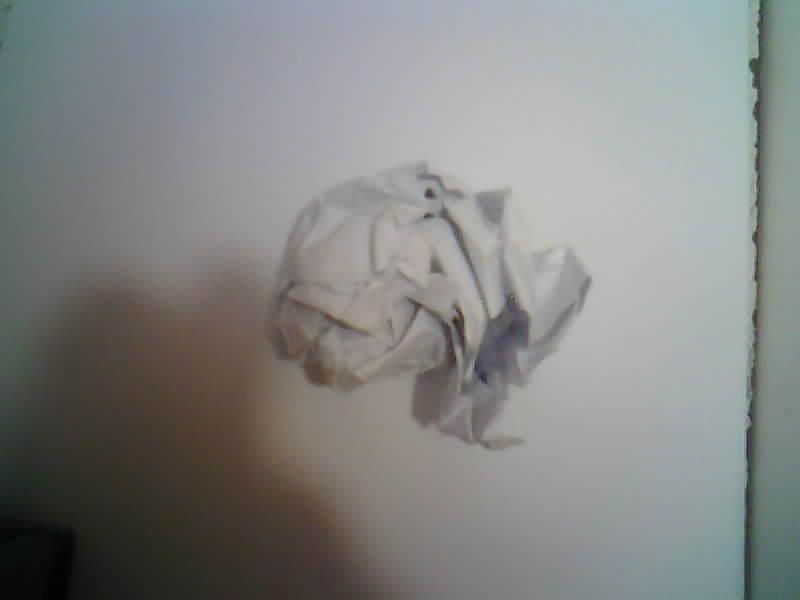biodegradable: (274, 161, 591, 448)
